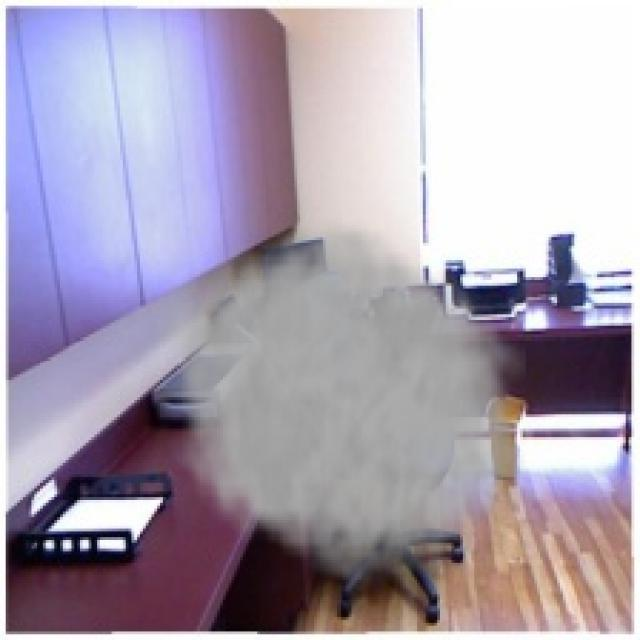Smoke: (154, 211, 526, 600)
